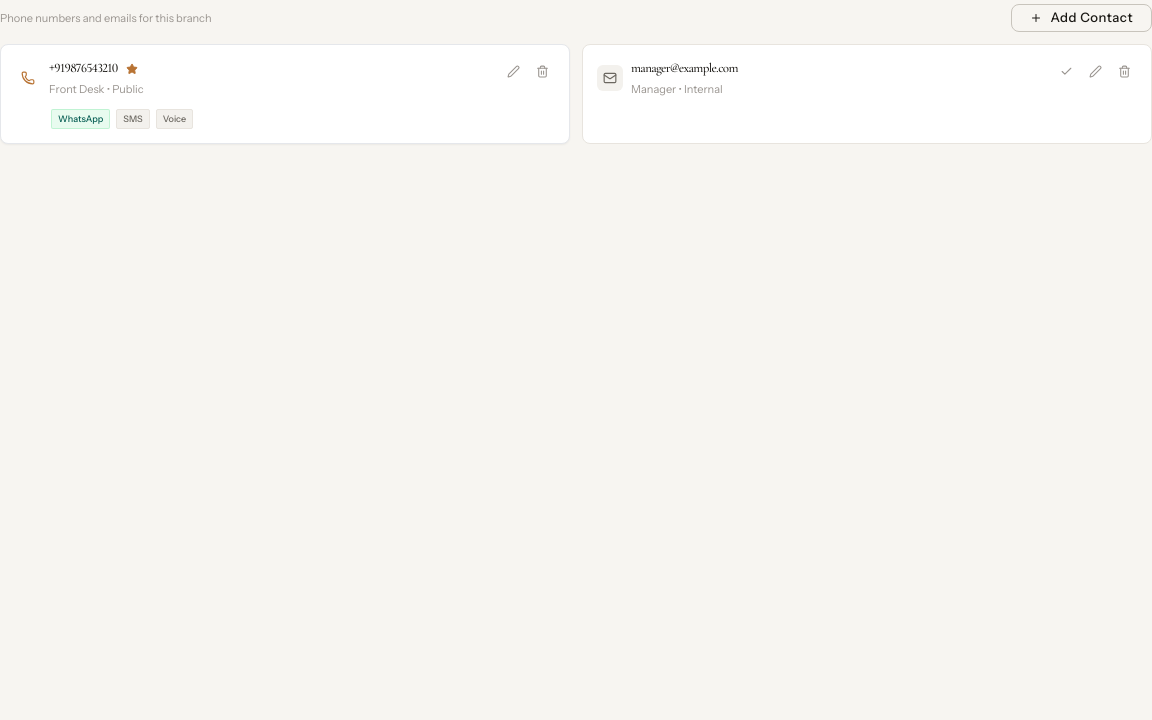
Test: BranchContactsSection create/update form submission › clears a stale save error before opening a different contact workflow
Expected: the heading "+919876543210" is shown, [49, 59, 144, 78]
Click the button "Add Contact": point(1082, 18) [1011, 4, 1151, 32]
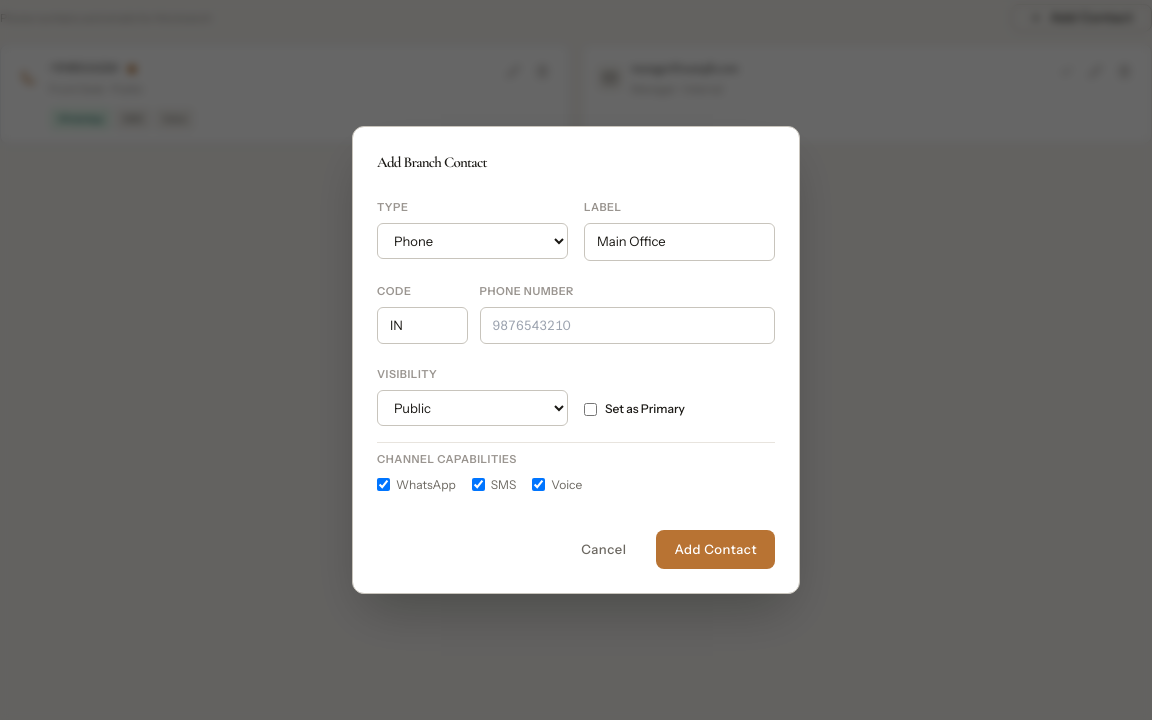
Result: the heading "Add Branch Contact" is shown at [377, 151, 487, 173]
Replace the text in the field with placeholder "e.g. Front Desk" below "Label" with "Front Desk Updated": point(680, 242) [584, 223, 775, 261]
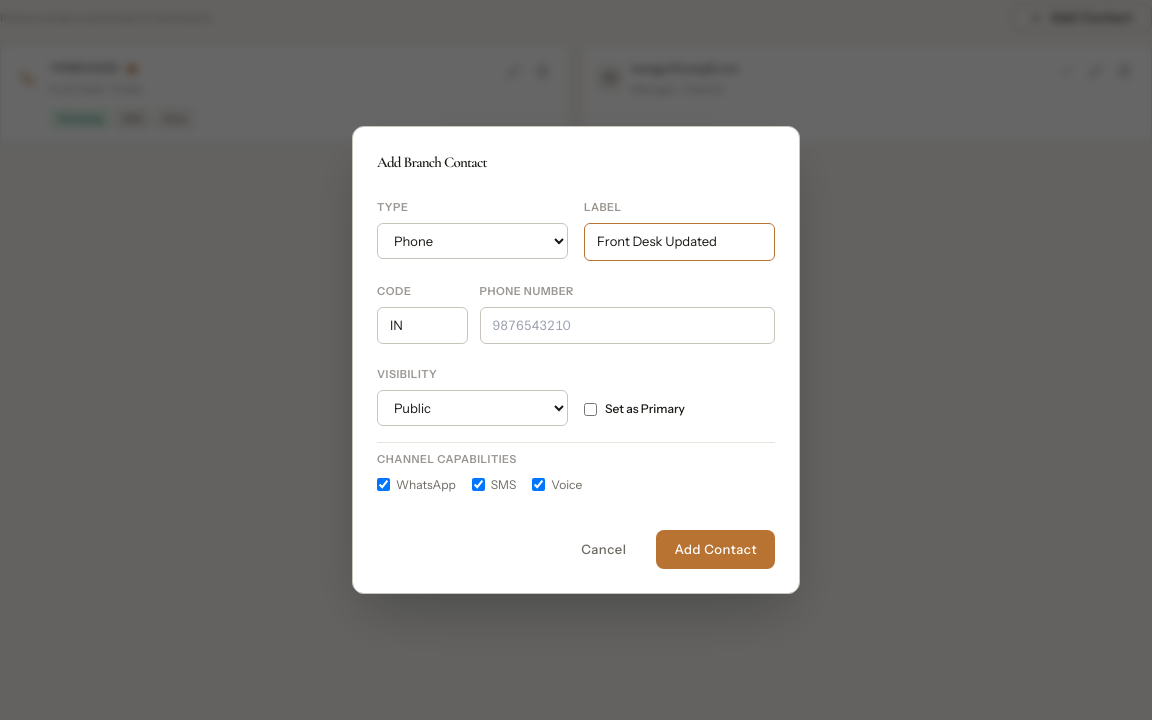
In the field with placeholder "9876543210": point(627, 326) [480, 307, 775, 344], type "9123456780"
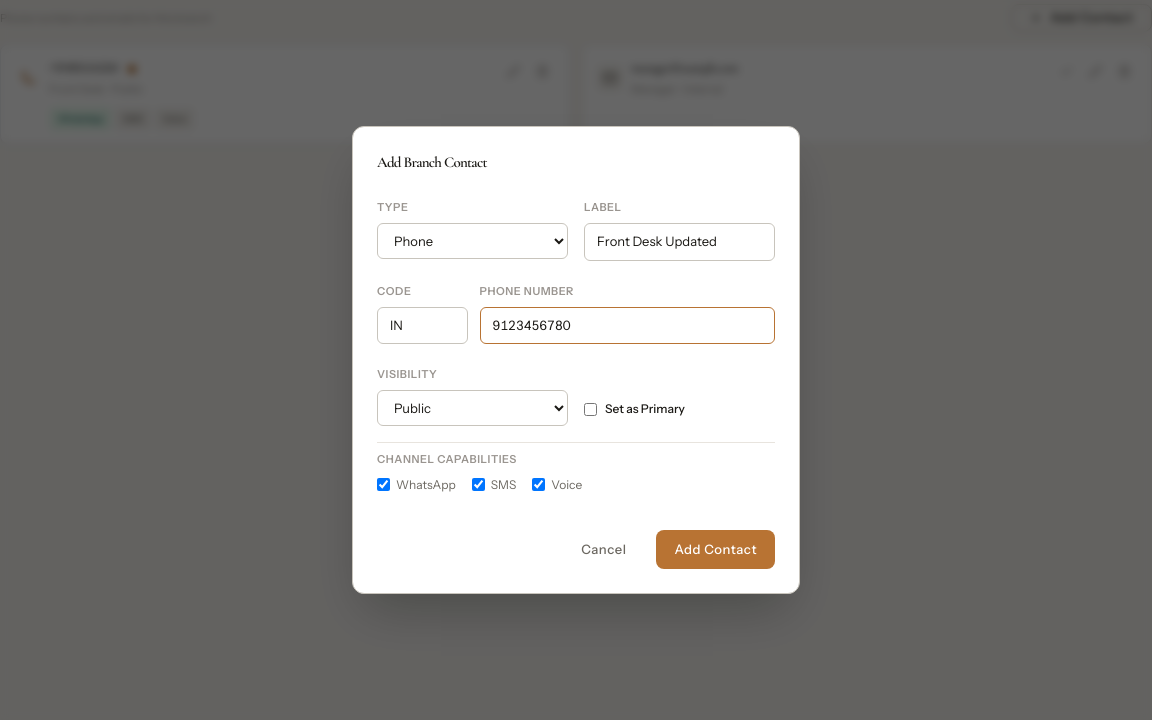
Click the button "Add Contact": point(716, 550) [656, 530, 775, 569]
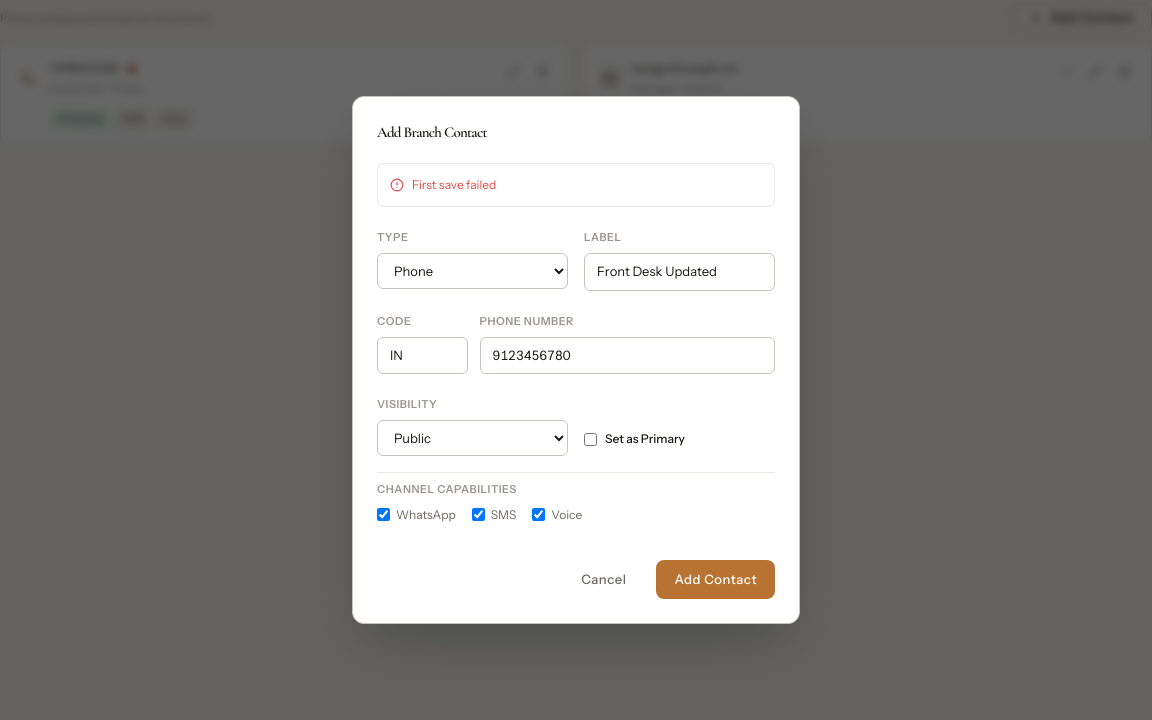
Result: the text "First save failed" is shown at [412, 177, 496, 192]
Click the button "Cancel": point(604, 580) [563, 560, 644, 599]
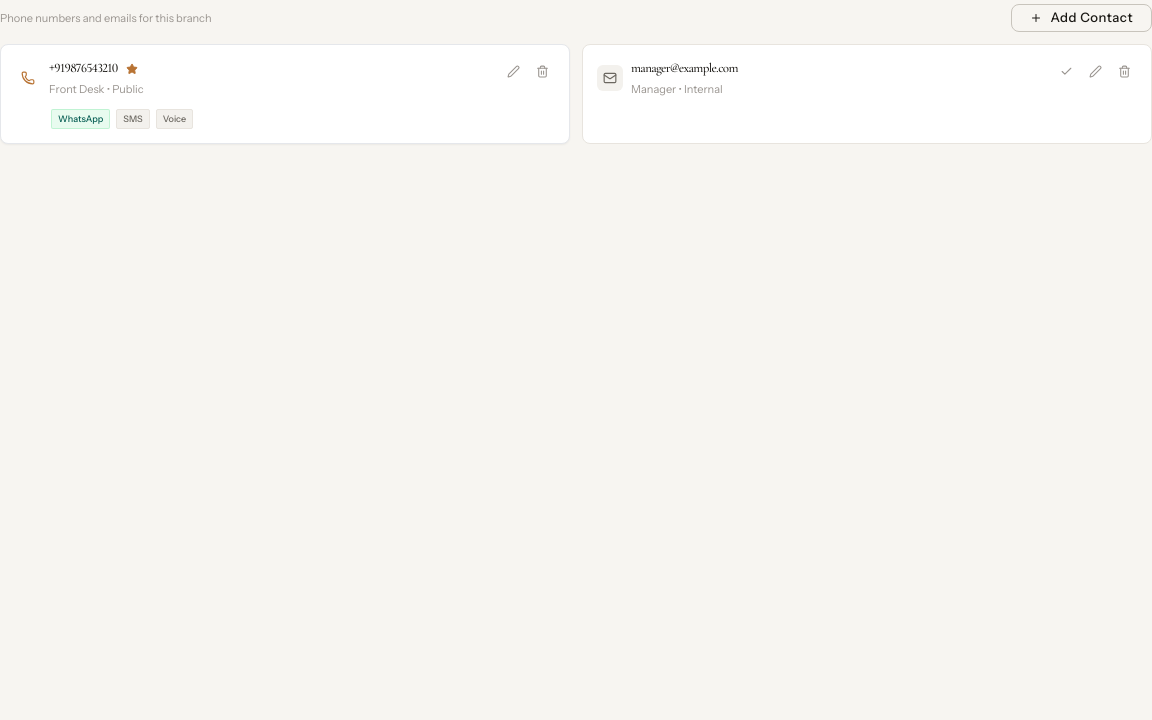
Click the button titled "Edit Contact" in the row of "manager@example.com": point(1096, 72) [1083, 59, 1108, 84]
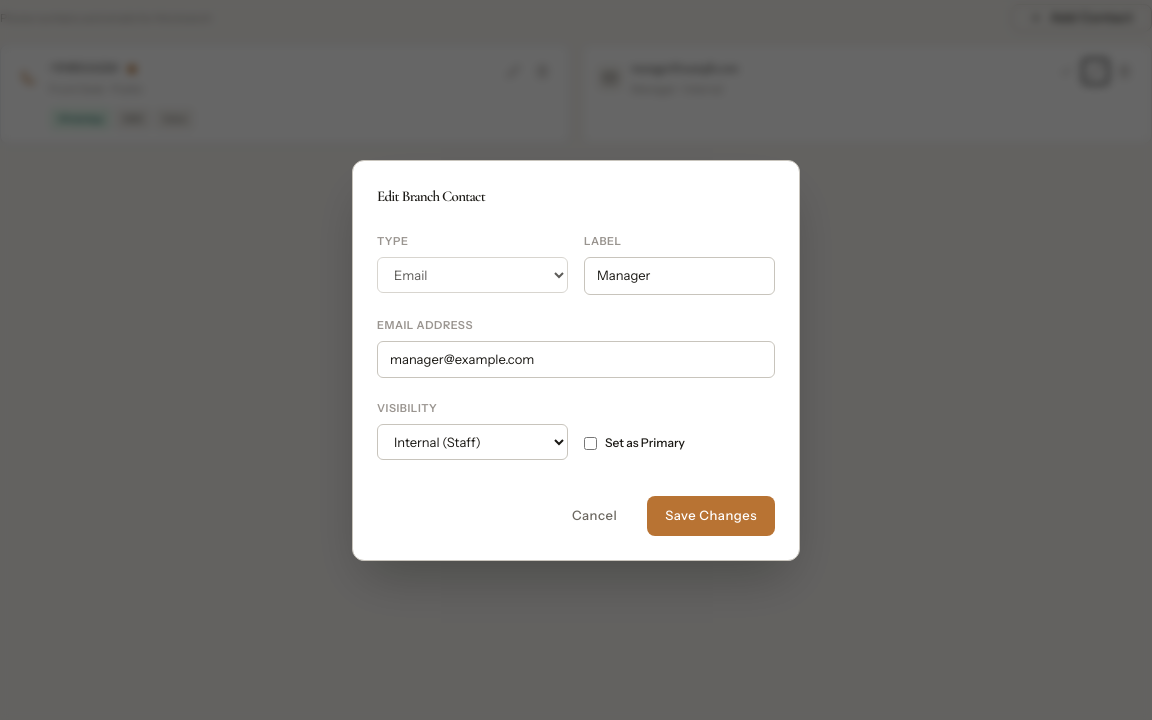
Result: the heading "Edit Branch Contact" is shown at [377, 184, 485, 207]
Result: the field with placeholder "e.g. Front Desk" below "Label" holds "Manager" at [584, 257, 775, 294]
Result: the field with placeholder "contact@branch.com" below "Email Address" holds "manager@example.com" at [377, 340, 775, 378]
